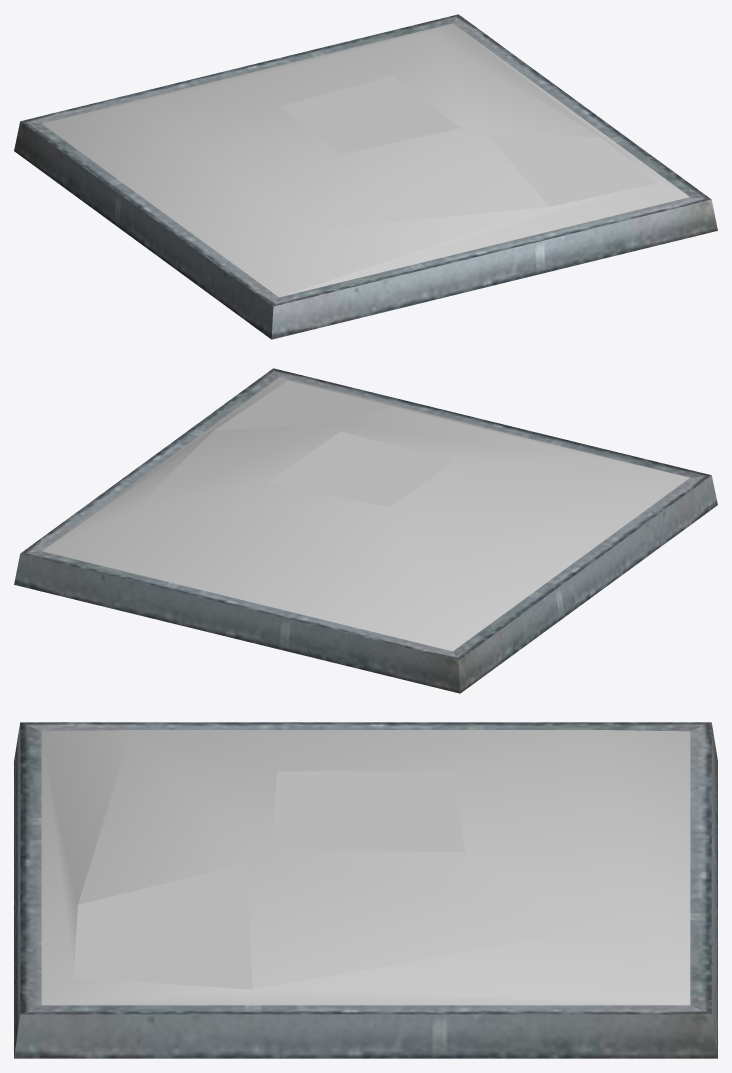
Rendered from roof_window2.fbx.
3 renders of one model, top to bottom at view 1: azimuth 30°, elevation 25°; view 2: azimuth 150°, elevation 25°; view 3: azimuth 270°, elevation 25°, orthographic. The views are drawn at different scales.
Parts seen in each view (by area): view 1: roof_window2; view 2: roof_window2; view 3: roof_window2.
Part boxes in pixels (<box>): roof_window2: <box>14,14,717,339</box>; roof_window2: <box>14,368,717,693</box>; roof_window2: <box>14,722,717,1058</box>.
Size of the model in its own units: 217 by 34.56 by 217.
